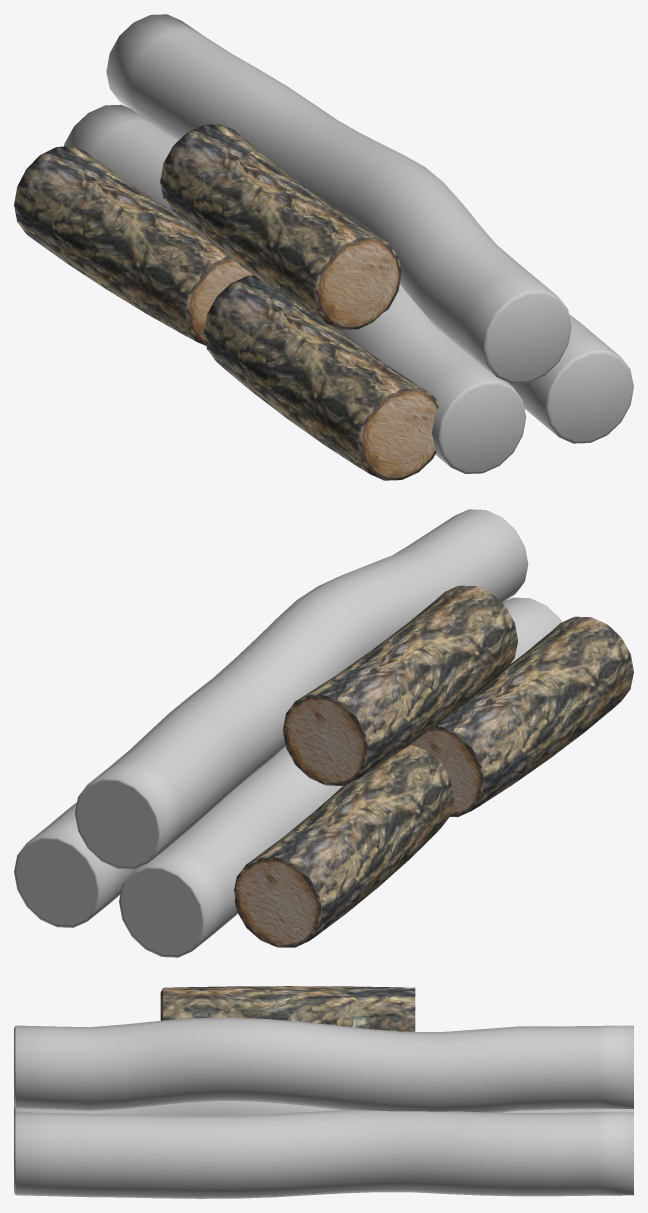
Rendered from BundOfWood.fbx.
3 views of the same model, one above another, from view 1: azimuth 30°, elevation 25°; view 2: azimuth 150°, elevation 25°; view 3: azimuth 270°, elevation 25° (orthographic). The views are drawn at different scales.
Parts seen in each view (by area): view 1: Log06.001, Log04.002, Log04, Log04.001, Log06, Log05; view 2: Log06.001, Log04.002, Log04.001, Log04, Log06, Log05; view 3: Log05, Log06.001, Log04.002, Log06.
Part boxes in pixels (x1,y1,x2,y2): Log06.001: [106, 14, 571, 383]; Log04.002: [160, 124, 401, 329]; Log04: [203, 275, 439, 480]; Log04.001: [14, 146, 253, 345]; Log06: [64, 104, 526, 473]; Log05: [508, 314, 633, 443]; Log06.001: [74, 509, 528, 869]; Log04.002: [283, 585, 517, 785]; Log04.001: [234, 744, 454, 947]; Log04: [410, 616, 633, 817]; Log06: [119, 597, 561, 957]; Log05: [14, 802, 136, 927]; Log05: [14, 1109, 633, 1198]; Log06.001: [14, 1017, 633, 1112]; Log04.002: [160, 986, 415, 1031]; Log06: [14, 1101, 633, 1115].
Size of the model in its own units: 4.57 by 10.42 by 2.89.
